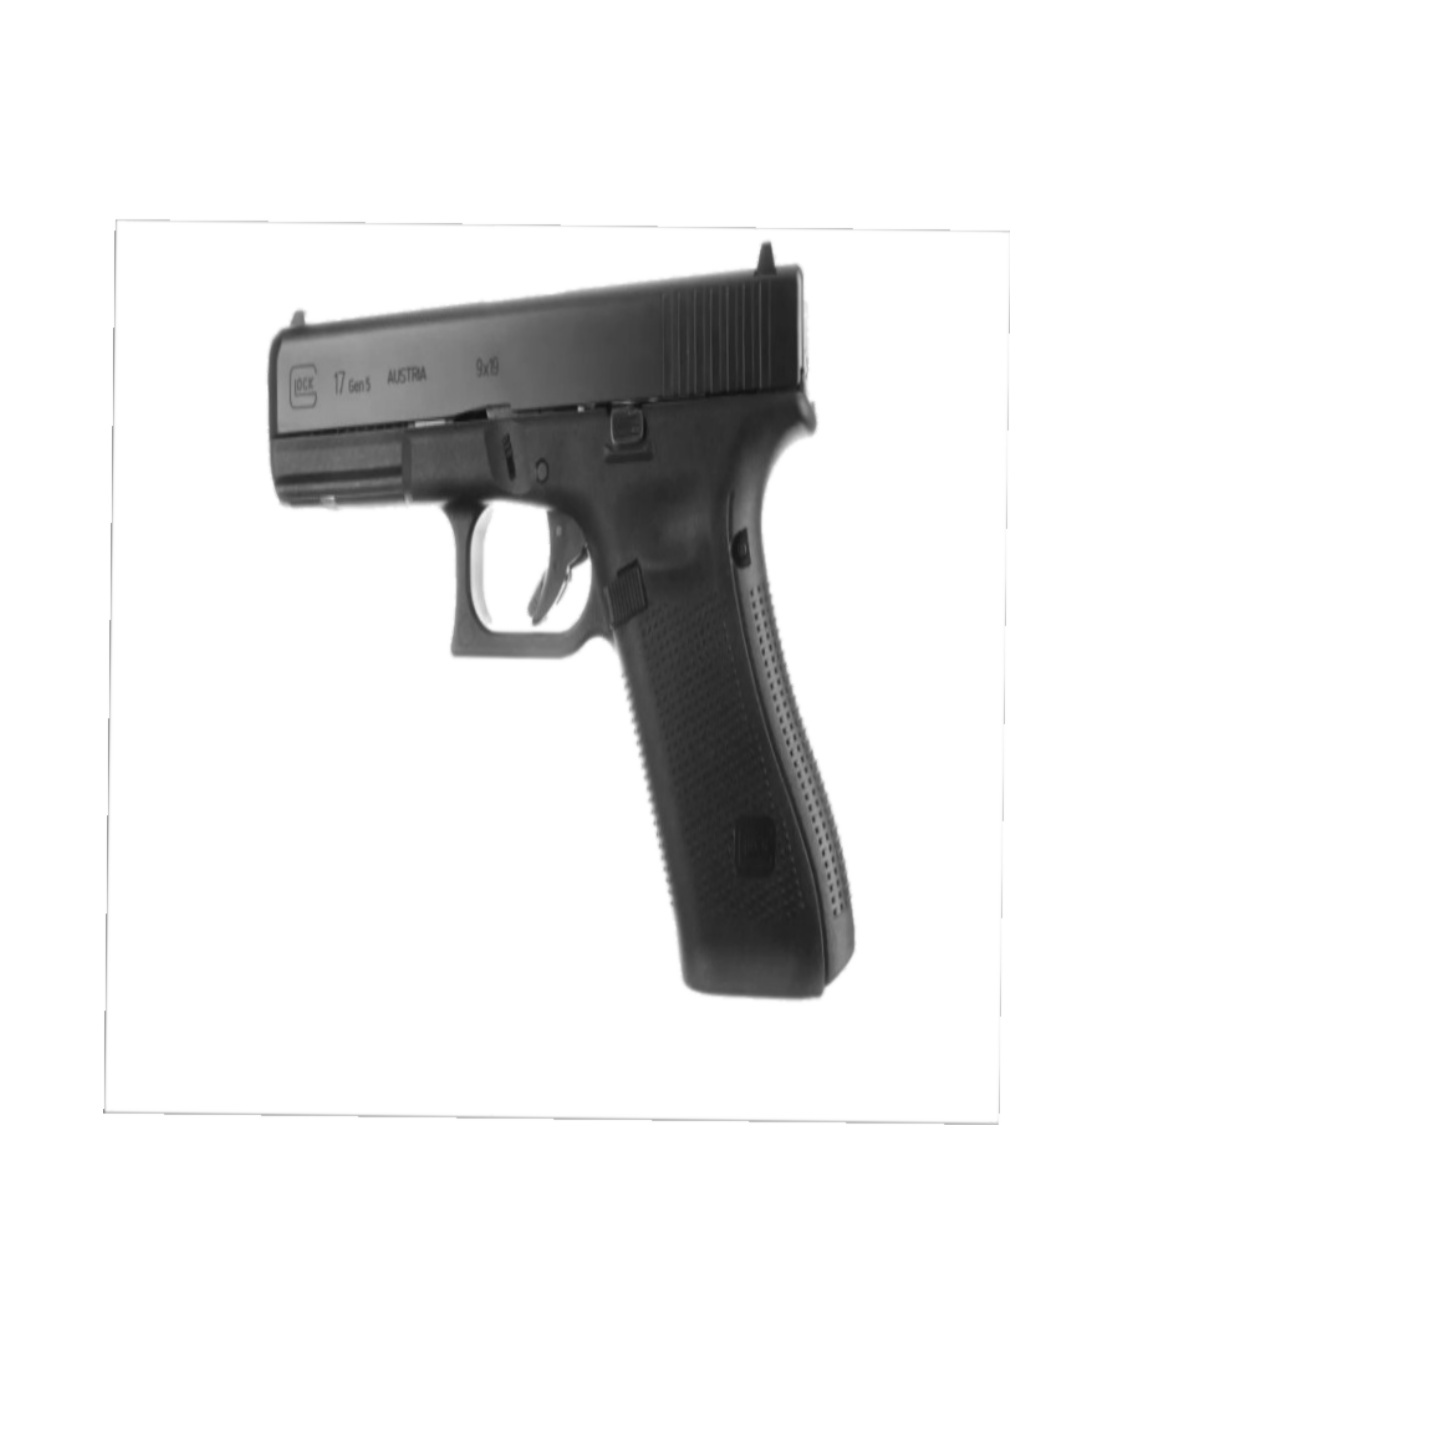gun: (257, 242, 872, 1014)
